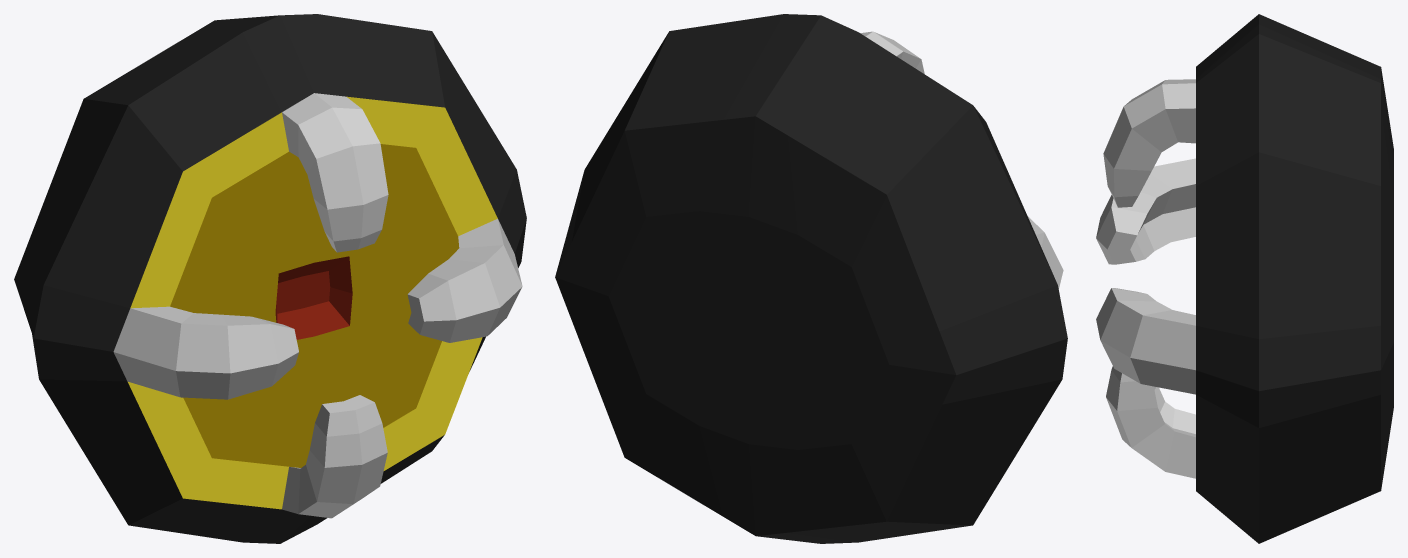
File: PhotonTurret.fbx
3 renders of one model, left to right at view 1: azimuth 30°, elevation 25°; view 2: azimuth 150°, elevation 25°; view 3: azimuth 270°, elevation 25°, orthographic. The views are drawn at different scales.
Visible parts, largest first — view 1: Cube; view 2: Cube; view 3: Cube.
Boxes of the visible parts, bbox=[...] form: Cube: bbox=[14, 14, 526, 543]; Cube: bbox=[555, 14, 1067, 543]; Cube: bbox=[1096, 14, 1393, 543].
Bounding box in the file's own units: 154 × 157 × 86.27.
